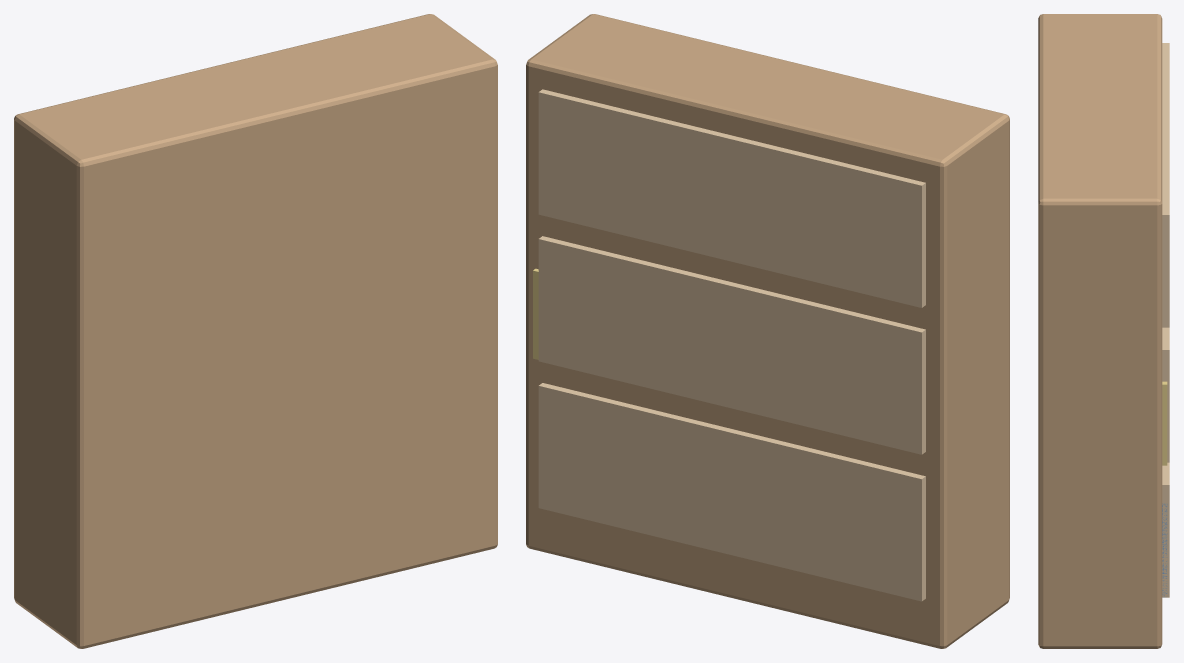
Rendered from bookshelf.glb.
The picture shows the model from 3 angles, left to right: view 1: azimuth 30°, elevation 25°; view 2: azimuth 150°, elevation 25°; view 3: azimuth 270°, elevation 25°; orthographic projection. The views are drawn at different scales.
Visible parts, largest first — view 1: Bookshelf; view 2: Bookshelf; view 3: Bookshelf.
Boxes of the visible parts, box(x1,y1,x2,y2) form: Bookshelf: box(14, 14, 497, 648); Bookshelf: box(526, 14, 1009, 648); Bookshelf: box(1038, 14, 1169, 648).
Size of the model in its own units: 1.8 by 2 by 0.53.
